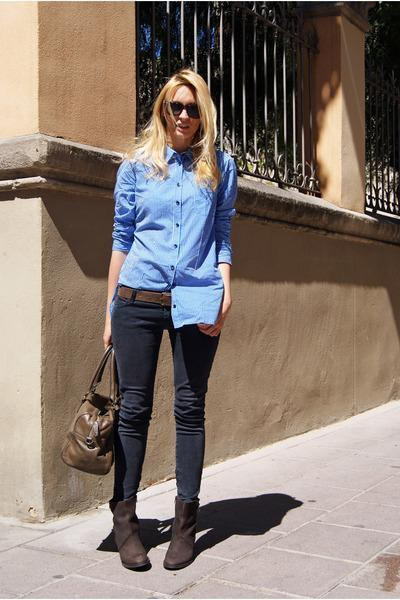bag: (66, 403, 127, 481)
pants: (108, 283, 219, 511)
shirt: (112, 132, 240, 327)
shoe: (96, 503, 210, 563)
sunglass: (170, 84, 203, 131)
